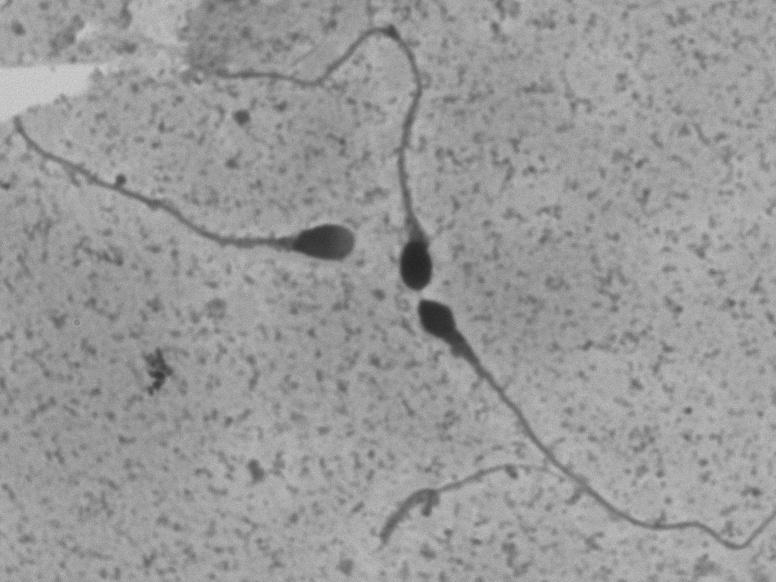Abnormal: (400, 288, 762, 558), (218, 15, 459, 296), (8, 140, 369, 275)
